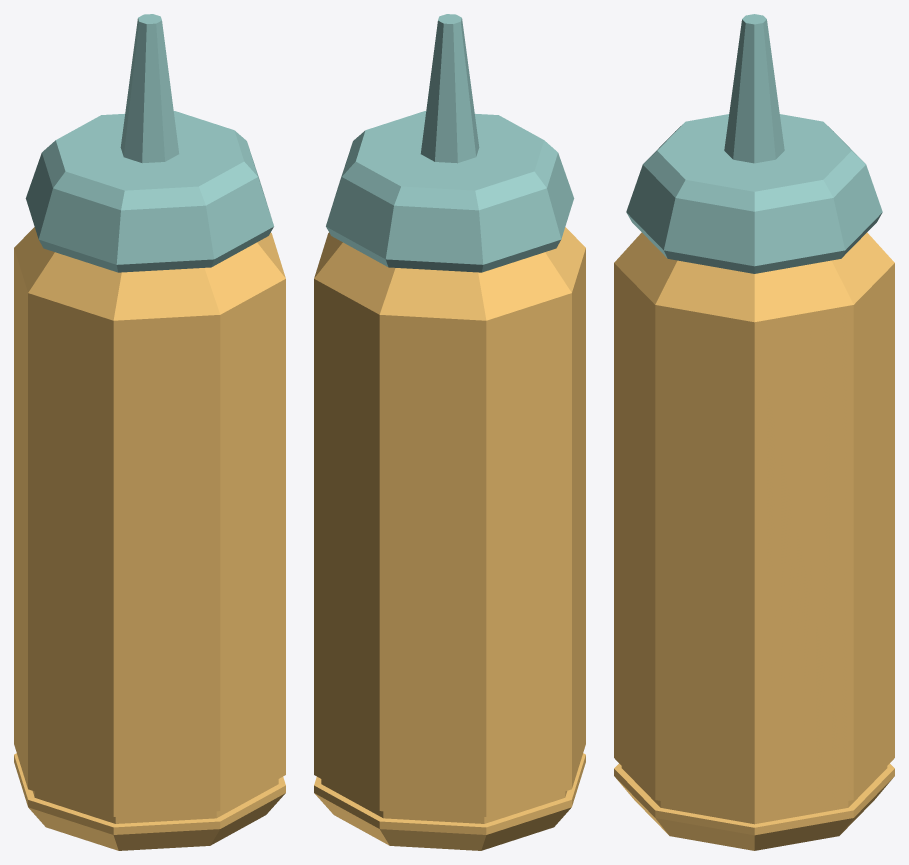
File: Potion.SpicyBananaSquEZ.fbx
3 renders of one model, left to right at view 1: azimuth 30°, elevation 25°; view 2: azimuth 150°, elevation 25°; view 3: azimuth 270°, elevation 25°, orthographic.
Visible parts, largest first — view 1: Potion.SpicyBananaSquEZ; view 2: Potion.SpicyBananaSquEZ; view 3: Potion.SpicyBananaSquEZ.
Boxes of the visible parts, x1=… form: Potion.SpicyBananaSquEZ: x1=14, y1=14, x2=285, y2=850; Potion.SpicyBananaSquEZ: x1=314, y1=14, x2=585, y2=850; Potion.SpicyBananaSquEZ: x1=614, y1=14, x2=894, y2=850.
Size of the model in its own units: 33.09 by 102 by 33.09.
